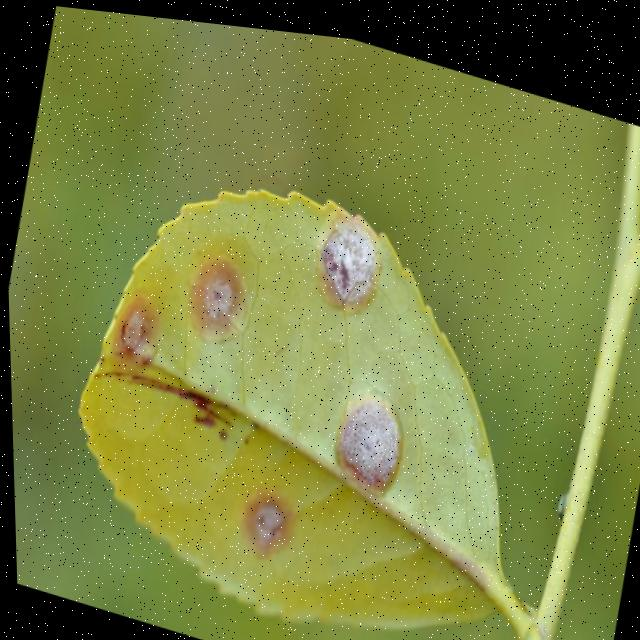Tea cake: (181, 239, 275, 337), (329, 373, 403, 487), (309, 201, 382, 296), (96, 283, 168, 376), (234, 473, 293, 551)
